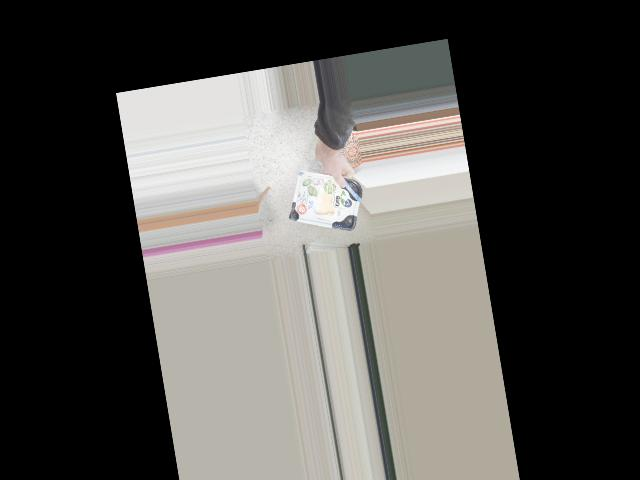cheese: (290, 170, 359, 230)
